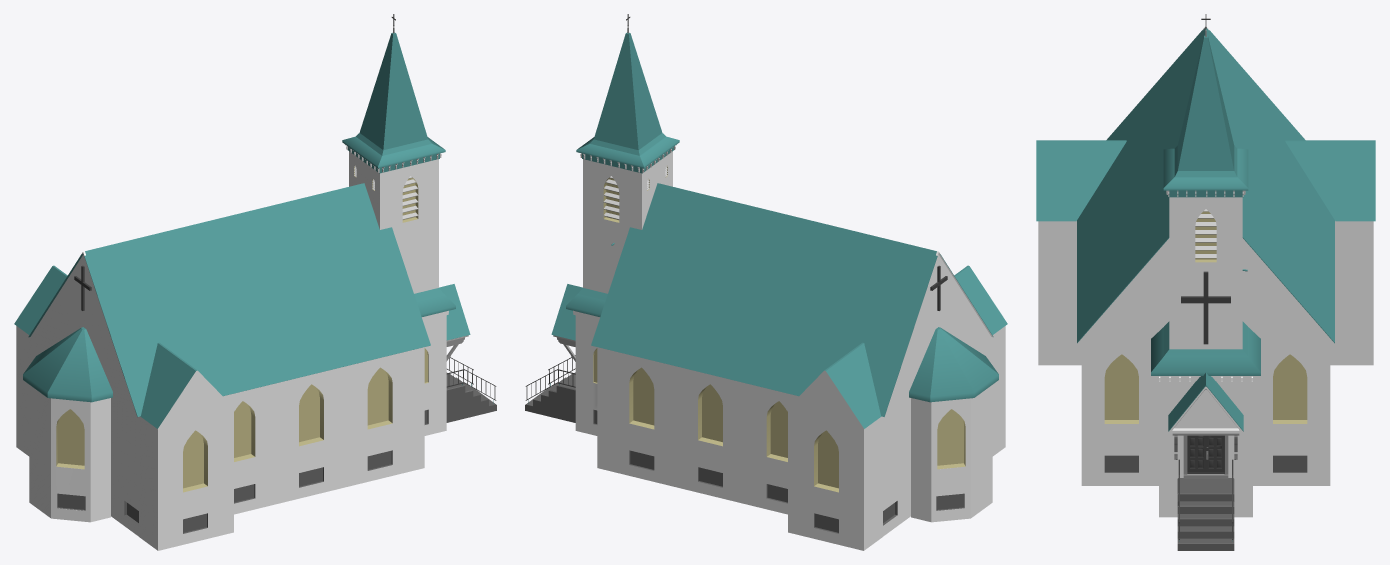
File: AMERICAN_CHURCH.fbx
3 renders of one model, left to right at view 1: azimuth 30°, elevation 25°; view 2: azimuth 150°, elevation 25°; view 3: azimuth 270°, elevation 25°, orthographic. The views are drawn at different scales.
Visible parts, largest first — view 1: AMERICAN_CHURCH; view 2: AMERICAN_CHURCH; view 3: AMERICAN_CHURCH.
Part boxes in pixels (box(x1,y1,x2,y2)): AMERICAN_CHURCH: box(14, 14, 496, 550); AMERICAN_CHURCH: box(525, 14, 1007, 550); AMERICAN_CHURCH: box(1036, 14, 1375, 550).
Bounding box in the file's own units: 2869 × 2500 × 1587.
